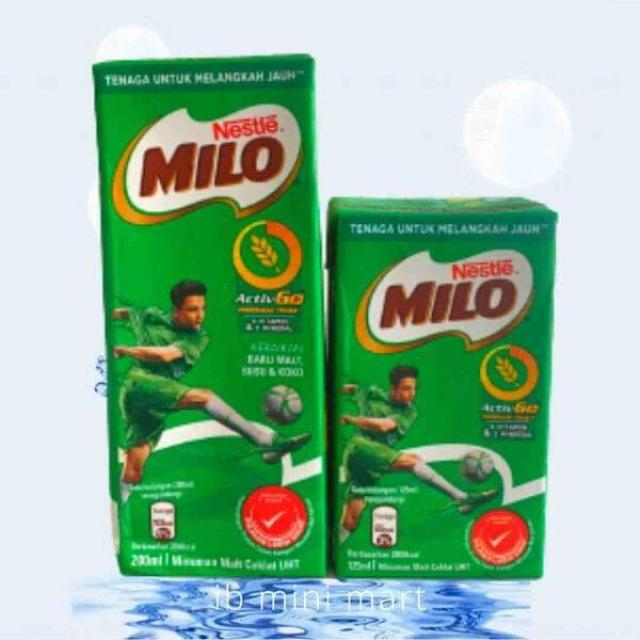drink carton: (95, 55, 332, 574), (338, 191, 550, 579)
